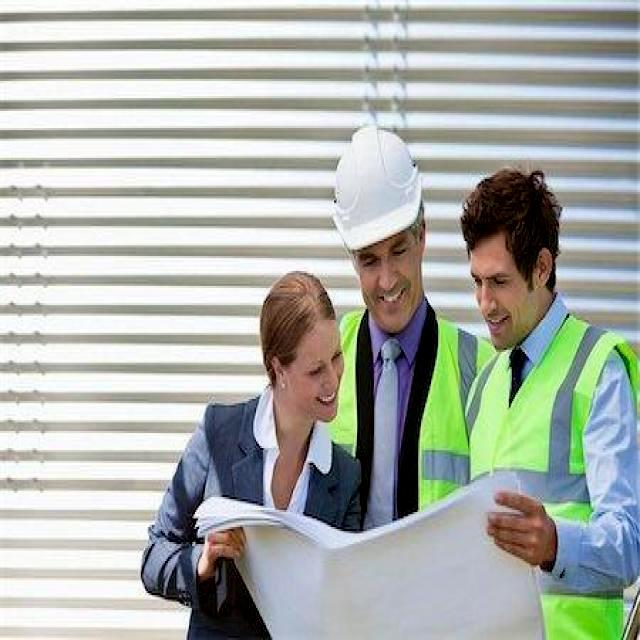hard_hat: (332, 125, 421, 250)
no_head_wear: (460, 171, 561, 284), (260, 271, 335, 384)
person: (461, 169, 639, 639), (142, 272, 361, 639), (331, 127, 477, 529)
